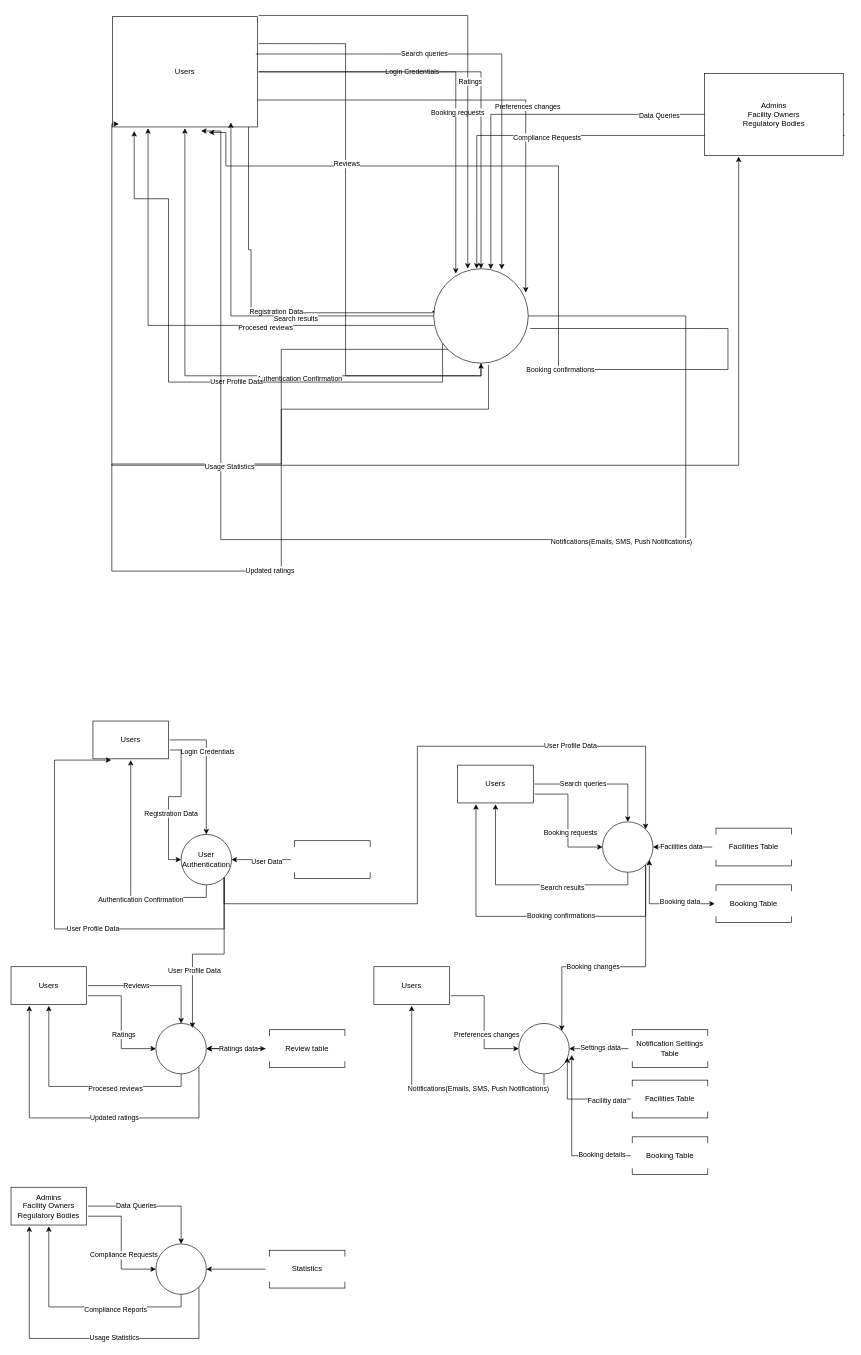
This 861x1355 diagram has some shape labels left out. Each missing label, with the box of its shape:
Facility Search and Booking: (602, 821, 653, 872)
Notification processing: (518, 1023, 569, 1074)
Reporting and Compliance: (155, 1243, 206, 1294)
Review and Ratings: (155, 1023, 206, 1074)
Sport location manager: (433, 268, 528, 363)
User Account Table: (294, 840, 370, 879)
